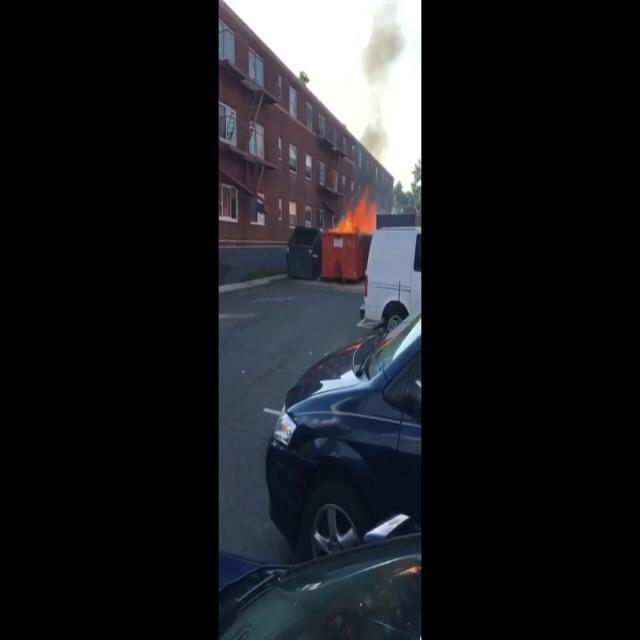Fire: (335, 190, 379, 236)
Smoke: (355, 2, 412, 202)
